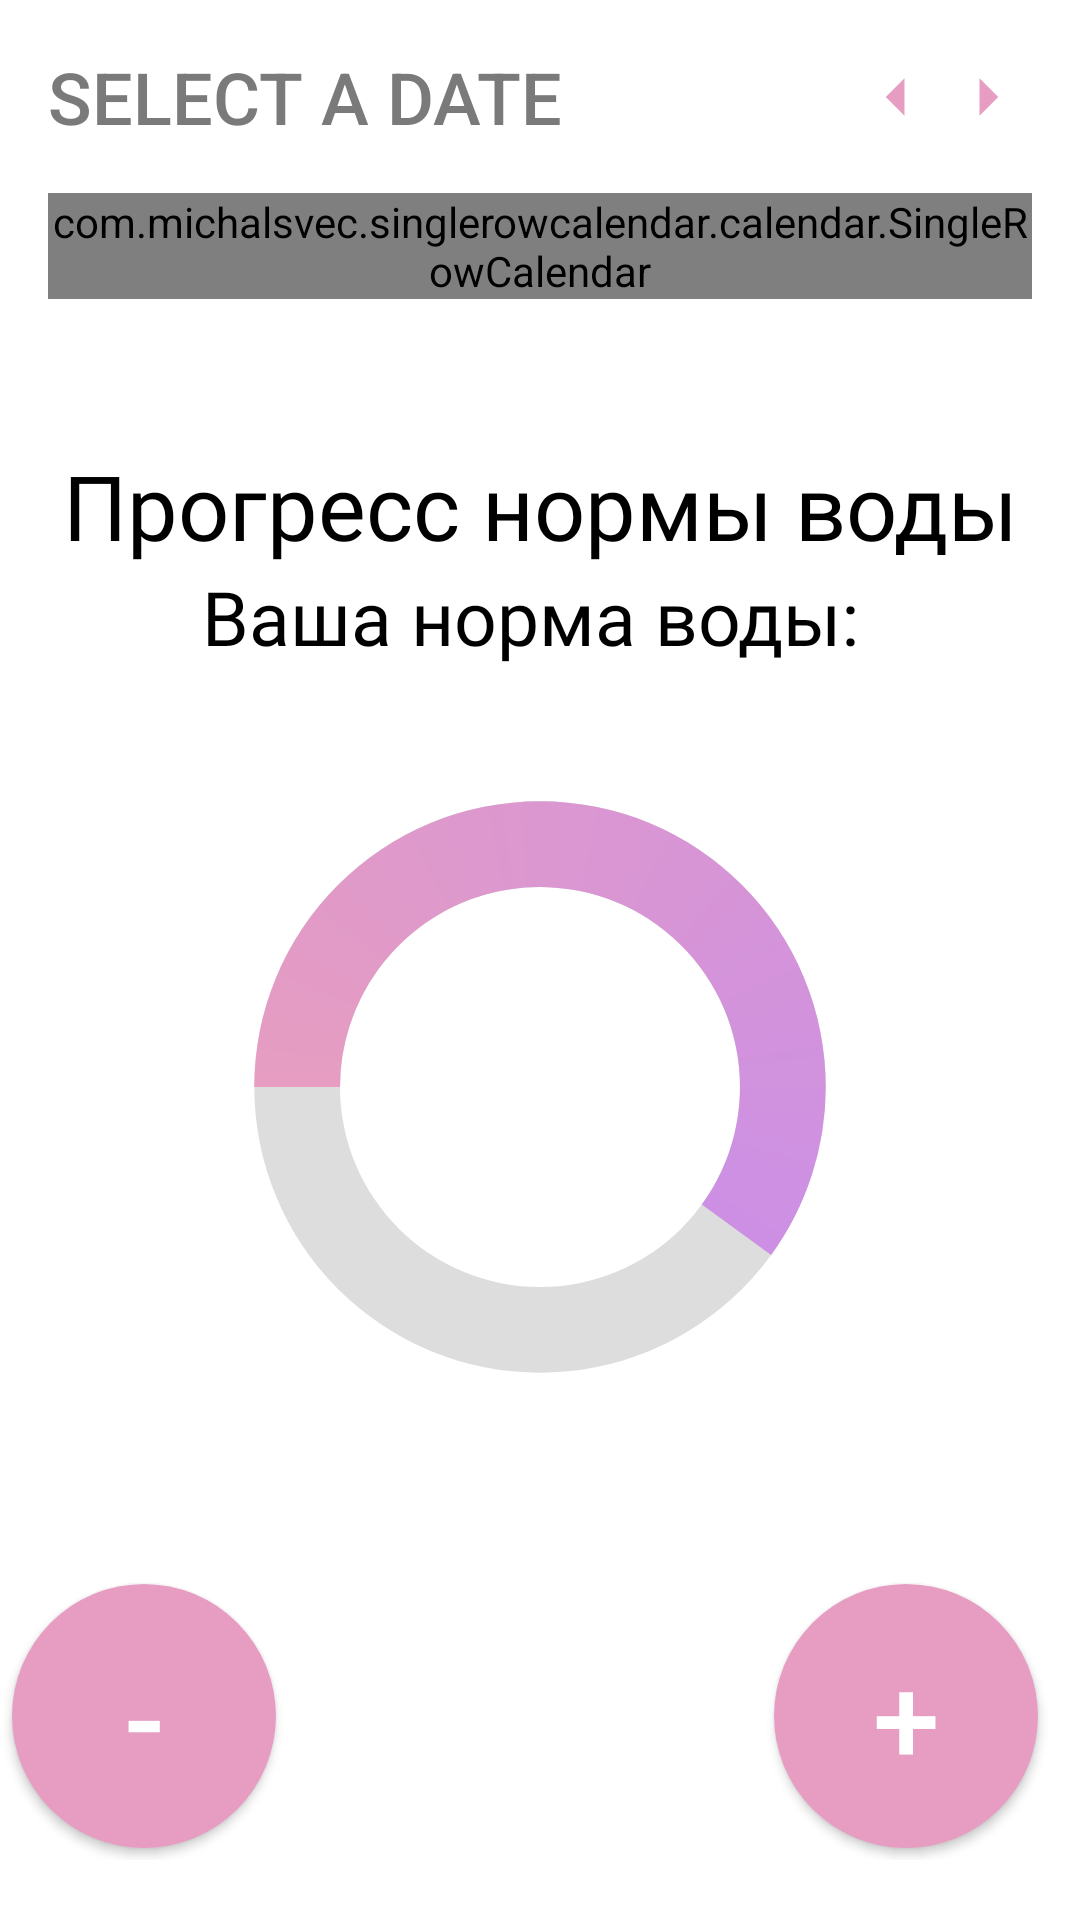

Screen size 1080w x 1920h. Icon name, then its box in pixels as (x1, y1, x2, y2):
arrow left: (886, 79, 905, 115)
arrow right: (979, 79, 998, 115)
